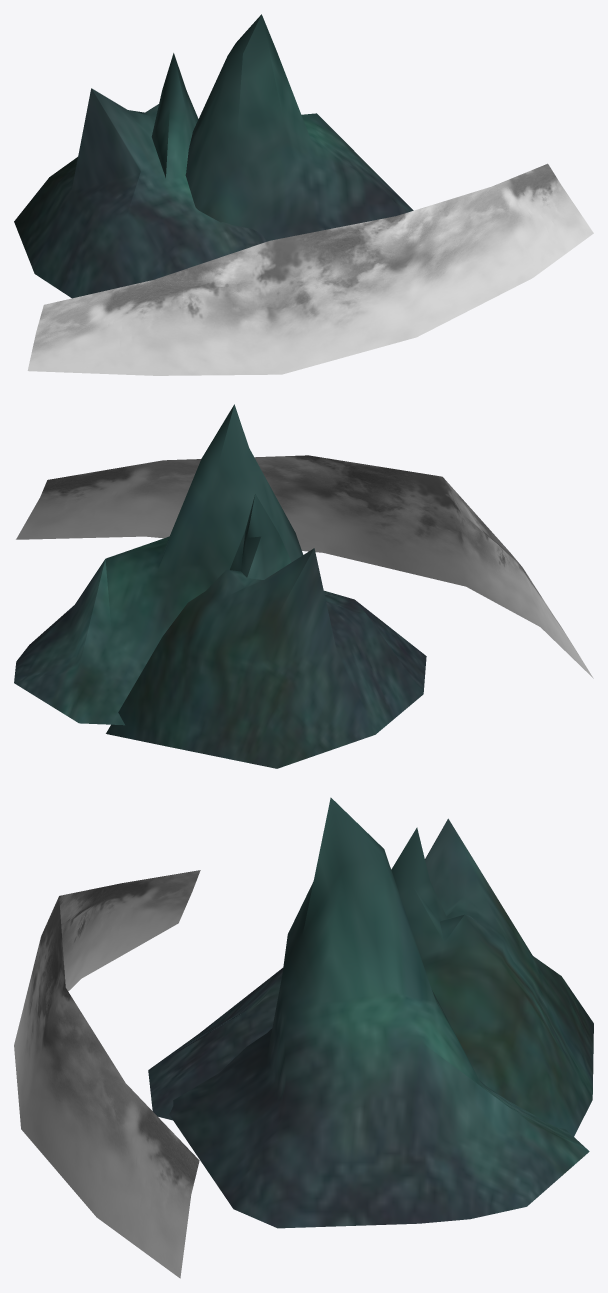
Rendered from pir_m_are_isl_mysterious_02_low.fbx.
3 renders of one model, top to bottom at view 1: azimuth 30°, elevation 25°; view 2: azimuth 150°, elevation 25°; view 3: azimuth 270°, elevation 25°, orthographic. The views are drawn at different scales.
Visible parts, largest first — view 1: fog, hill1, hill; view 2: hill1, fog, hill; view 3: hill, fog, hill1.
Boxes of the visible parts, x1,y1,x2,y2 form: fog: (27, 163, 593, 375); hill1: (14, 53, 266, 298); hill: (185, 14, 413, 241); hill1: (106, 494, 426, 768); fog: (16, 455, 593, 678); hill: (14, 404, 303, 725); hill: (169, 797, 589, 1228); fog: (14, 870, 200, 1278); hill1: (148, 818, 593, 1136).
Bounding box in the file's own units: 376789 × 169209 × 260965.
Materials: 2 (2 with a texture image).
